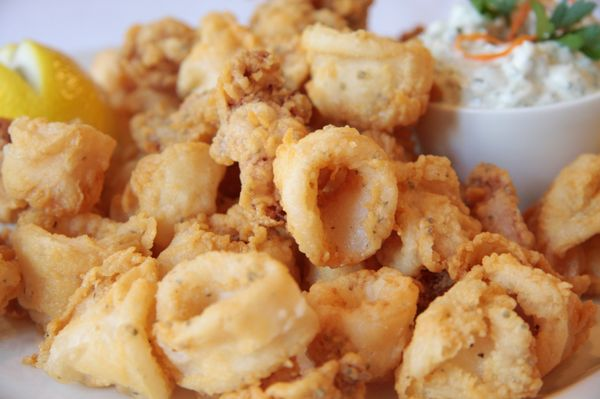pasta: (272, 125, 398, 269)
sushi: (418, 1, 600, 200)
